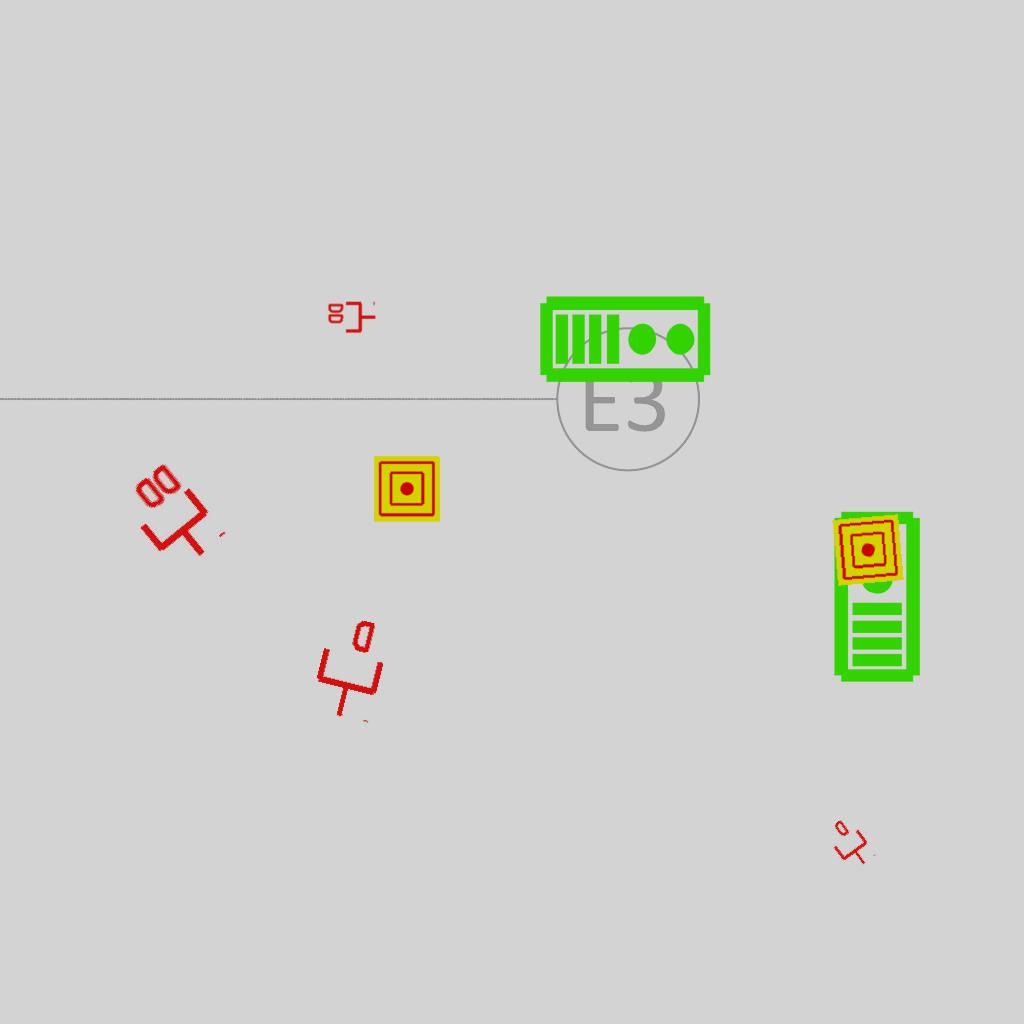Datenanschluss_einfach: (304, 612, 397, 726), (821, 813, 879, 875)
Datenanschluss_zweifach: (111, 455, 230, 580), (326, 301, 377, 335)
Gegensprechanlage_mit_Video: (538, 290, 714, 385), (828, 508, 923, 684)
NAM-Nichtautomatischer_Melder: (832, 514, 904, 586), (374, 456, 440, 522)
